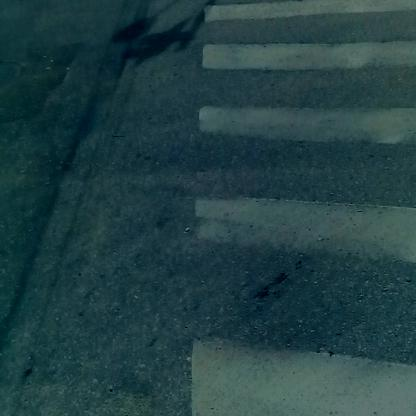crosswalk: (177, 11, 416, 416)
